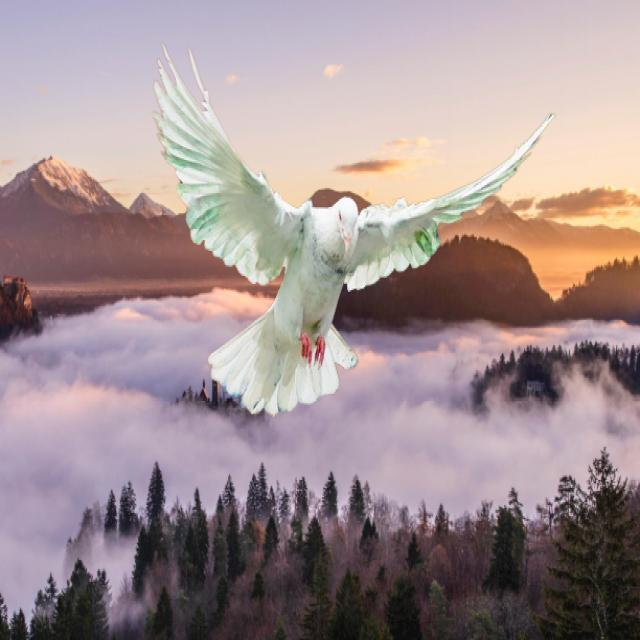birds: (142, 29, 556, 419)
